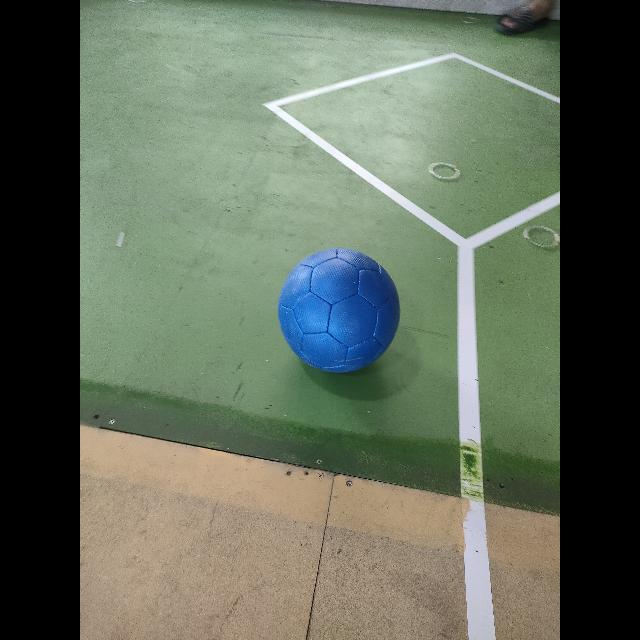B: (278, 248, 400, 372)
